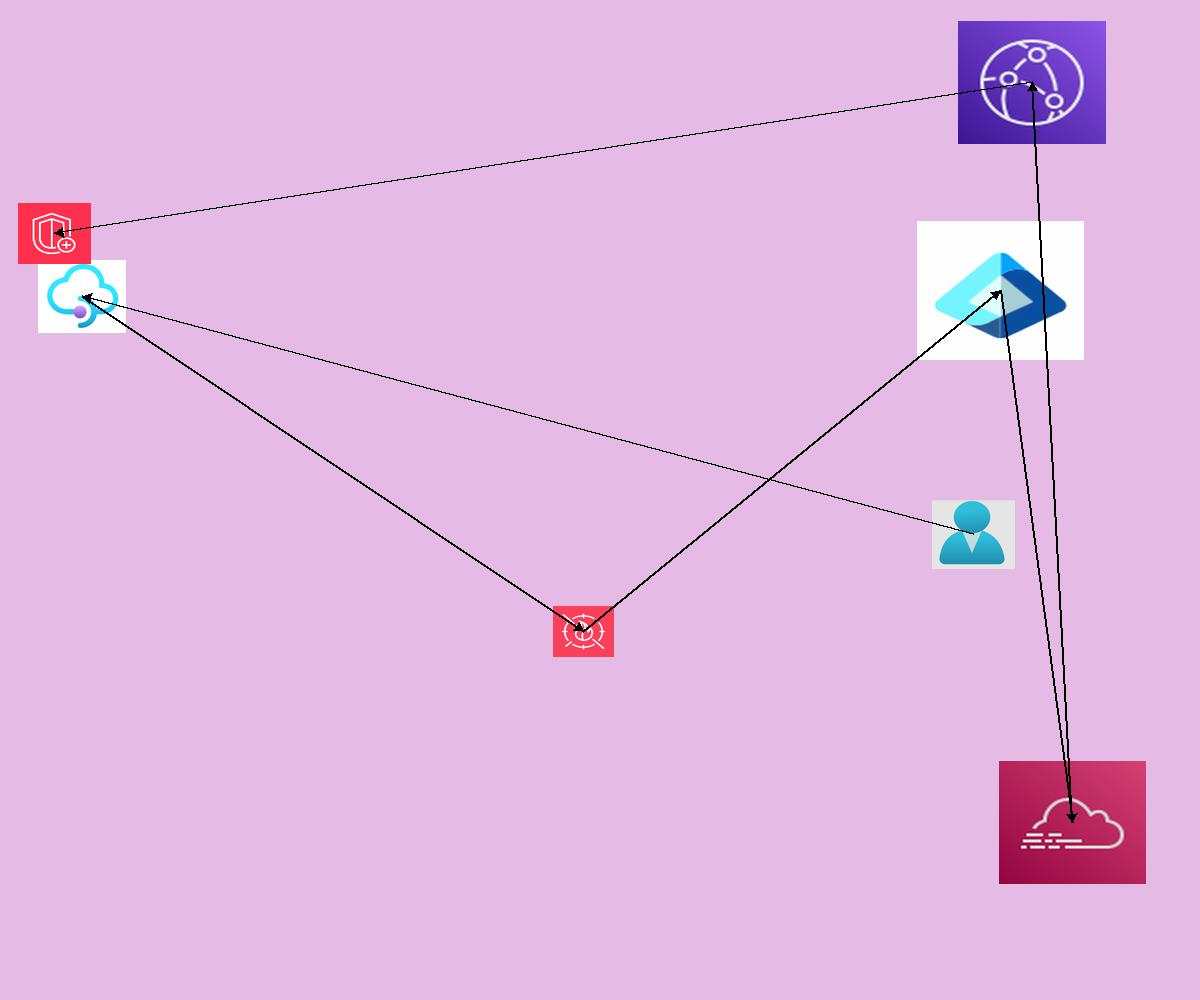AWS-CloudFront: (958, 21, 1106, 144)
AWS-CloudTrail: (999, 761, 1146, 884)
AWS-Shield: (18, 203, 91, 264)
AWS-WAF: (553, 606, 614, 657)
Azure_api_gateway: (38, 260, 126, 333)
Azure_microsoft_entra: (917, 221, 1084, 360)
Azure_users: (932, 500, 1015, 569)
